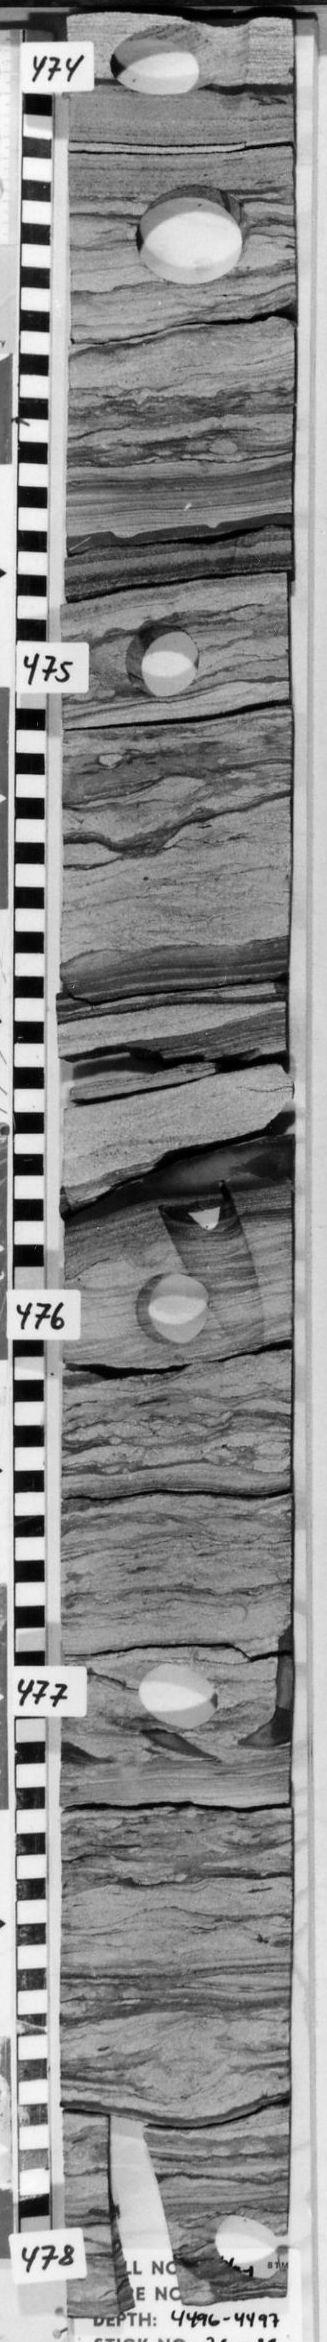hplug: (187, 2205, 284, 2293), (105, 22, 208, 100), (137, 1653, 224, 1733), (122, 620, 206, 701), (128, 1270, 212, 1350)
scal: (125, 179, 260, 291)
vplug: (161, 1190, 287, 1355), (96, 2112, 187, 2308), (206, 25, 264, 119)
